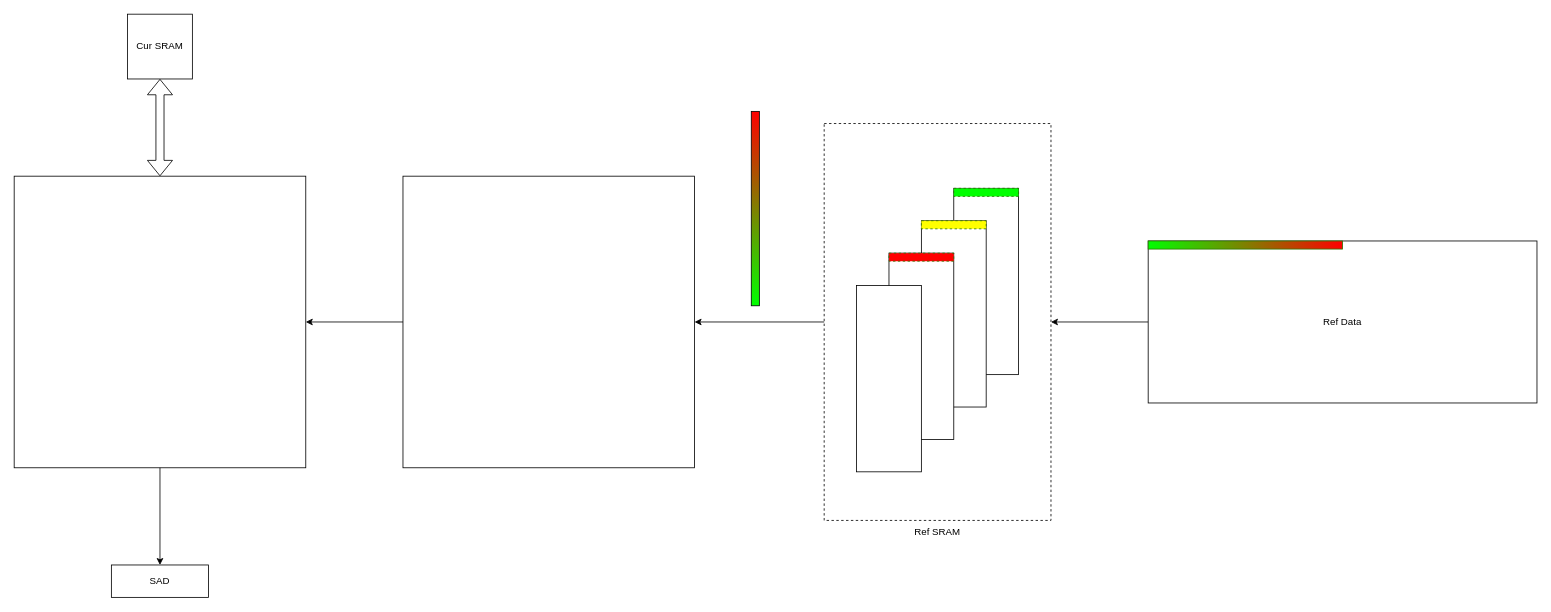
Image size: 1551x612. Some labels were removed from this diagram. Each missing label, with the centre of its shape:
"AB2" goes at (x=159, y=321).
"FIFO" goes at (x=548, y=321).
